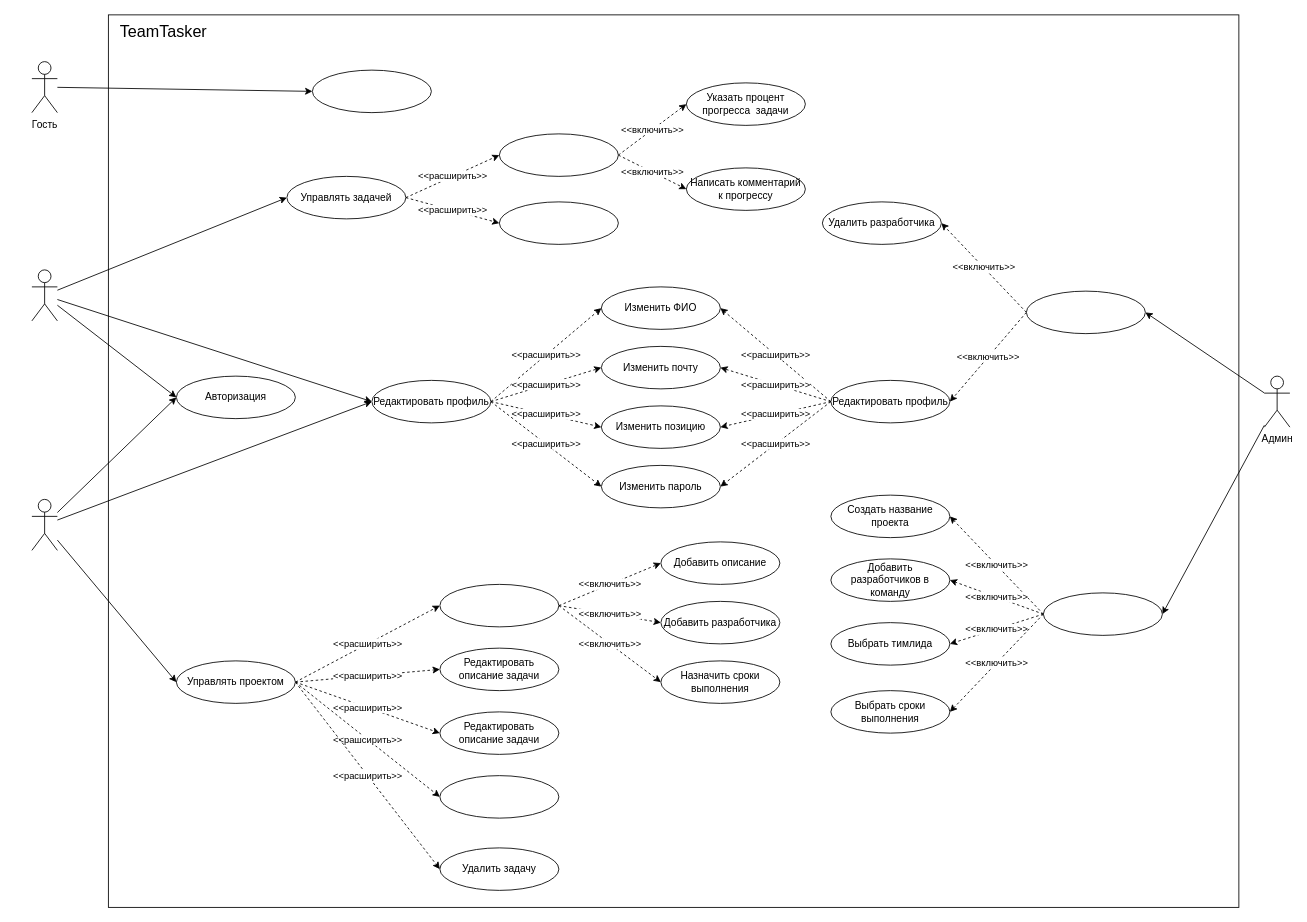
This 1307x922 diagram has some shape labels left out. The shapes that lost their labels are listed below. From the top down, each one's centre as x and y in pixels, then its label:
At (371,91): "Регистрация".
At (558,154): "Обновить процент выполнения".
At (558,222): "Отправить запрос на закрытие задачи".
At (44,295): "Разработчик".
At (1085,312): "Управлять БД разработчиков".
At (44,524): "Тимлид".
At (499,605): "Добавить задачу".
At (1102,613): "Создать проект".
At (499,796): "Принять/отклонить задачу".
